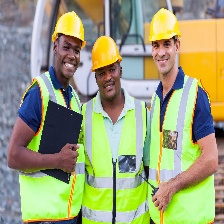helmet: (148, 7, 184, 46), (51, 10, 87, 47), (88, 33, 121, 69)
person: (144, 3, 219, 224), (14, 10, 86, 224), (84, 34, 146, 221)
vest: (149, 77, 219, 223), (81, 93, 152, 224), (21, 73, 83, 218)
